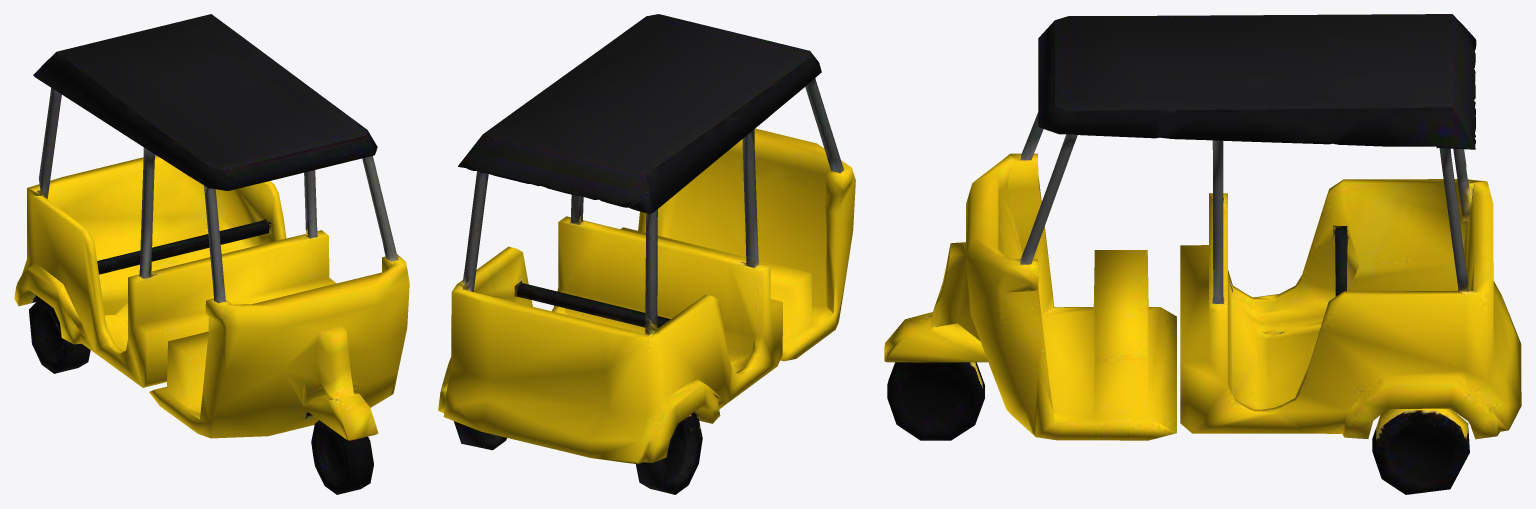
The model's file is keke.glb.
3 renders of one model, left to right at view 1: azimuth 30°, elevation 25°; view 2: azimuth 150°, elevation 25°; view 3: azimuth 270°, elevation 25°, orthographic. The views are drawn at different scales.
Parts seen in each view (by area): view 1: keke, wheel_rl; view 2: keke, wheel_rl, wheel_rr; view 3: keke, wheel_rr.
Boxes of the visible parts, left/top/right/bottom form: keke: left=14, top=14, right=409, bottom=494; wheel_rl: left=29, top=298, right=90, bottom=373; keke: left=438, top=14, right=855, bottom=464; wheel_rl: left=636, top=414, right=702, bottom=494; wheel_rr: left=454, top=421, right=506, bottom=450; keke: left=884, top=14, right=1521, bottom=440; wheel_rr: left=1372, top=408, right=1469, bottom=494.
Bounding box in the file's own units: 1.51 × 2.05 × 3.16.
1 material, 1 textured.
